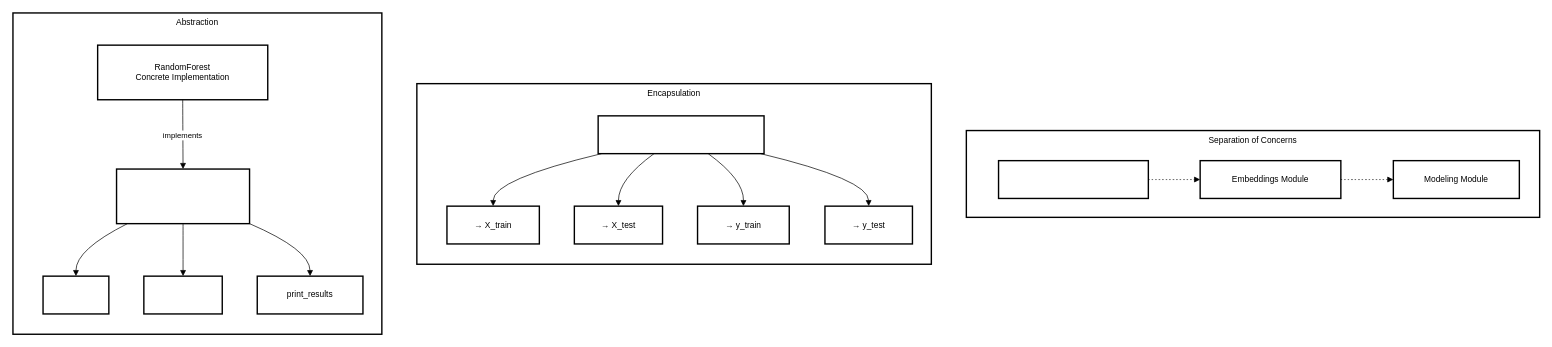
The diagram is 1552 pixels wide and 347 high, and some of its shapes have lost their labels. The centre of each missing label's shape, as x and y in pixels:
BaseModel Abstract Interface: pixel 182 196
Data Class Encapsulates:: pixel 680 134
predict: pixel 183 294
Preprocessing Module: pixel 1073 179
train: pixel 75 294
